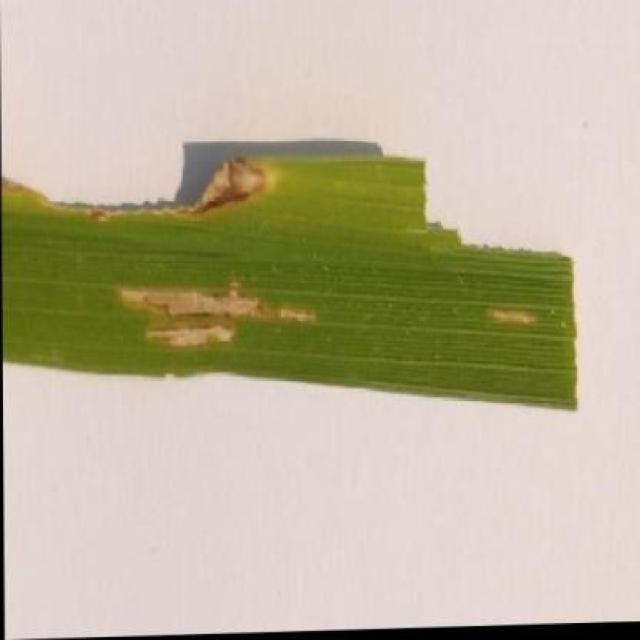Brown_Spot: (1, 147, 582, 430)
